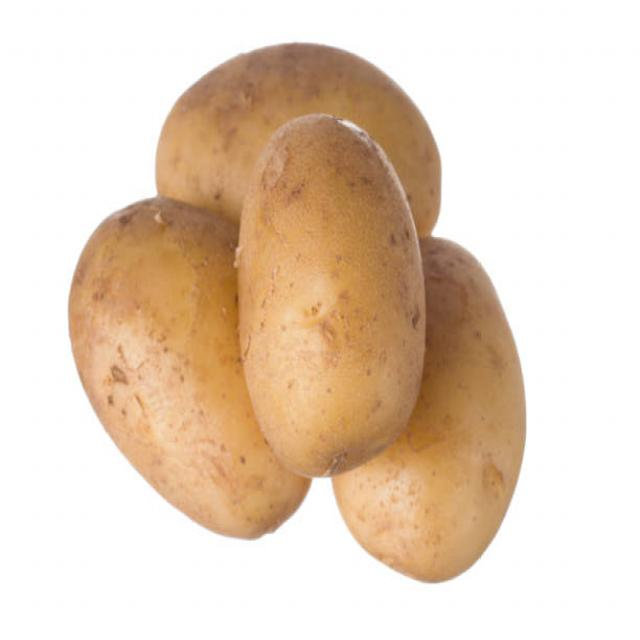potato: (240, 114, 424, 479), (62, 200, 245, 534), (425, 242, 535, 595), (148, 36, 253, 205)
